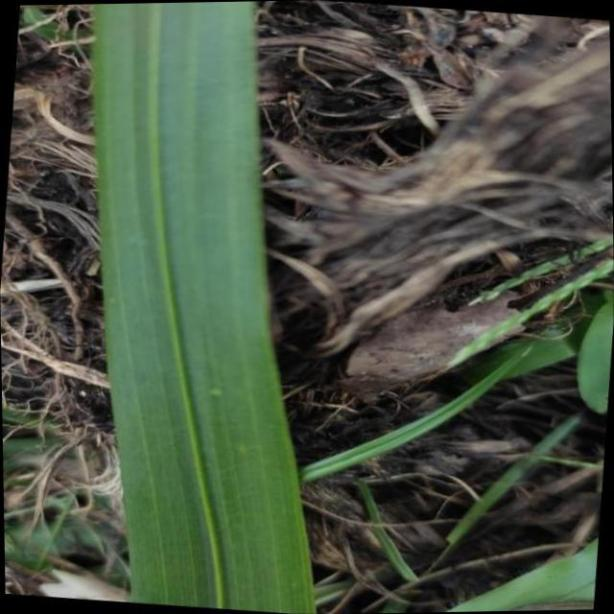Healthy: (92, 0, 316, 614)
